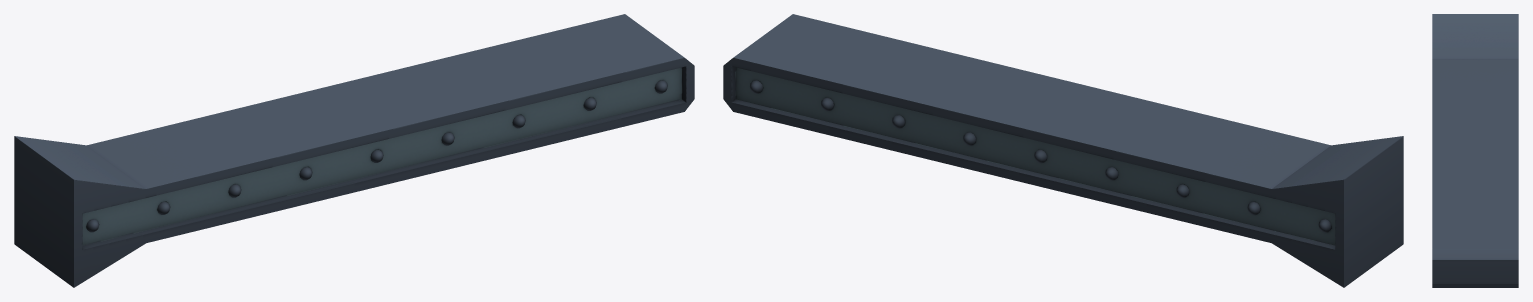
Rendered from gate 1.fbx.
The picture shows the model from 3 angles, left to right: view 1: azimuth 30°, elevation 25°; view 2: azimuth 150°, elevation 25°; view 3: azimuth 270°, elevation 25°; orthographic projection. The views are drawn at different scales.
Visible parts, largest first — view 1: Gate; view 2: Gate; view 3: Gate.
Part boxes in pixels (left/top/right/bottom): Gate: left=14, top=14, right=694, bottom=287; Gate: left=723, top=14, right=1403, bottom=287; Gate: left=1432, top=14, right=1518, bottom=287.
Size of the model in its own units: 197 by 32.76 by 32.76.
